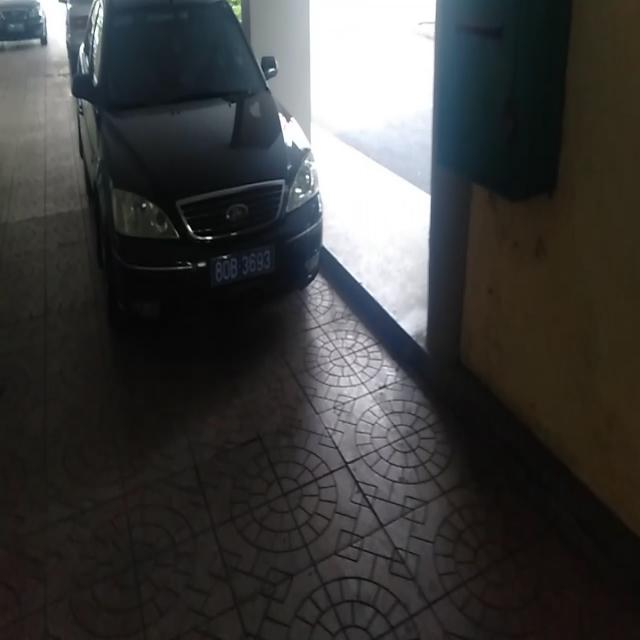bien_xanh: (209, 249, 278, 282)
